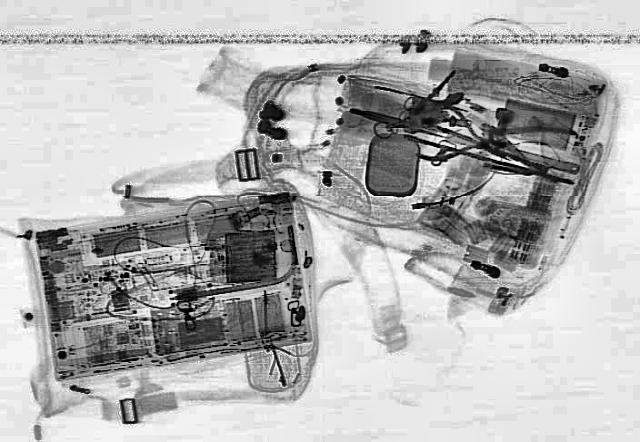Pliers: (456, 102, 610, 188), (402, 101, 524, 174)
